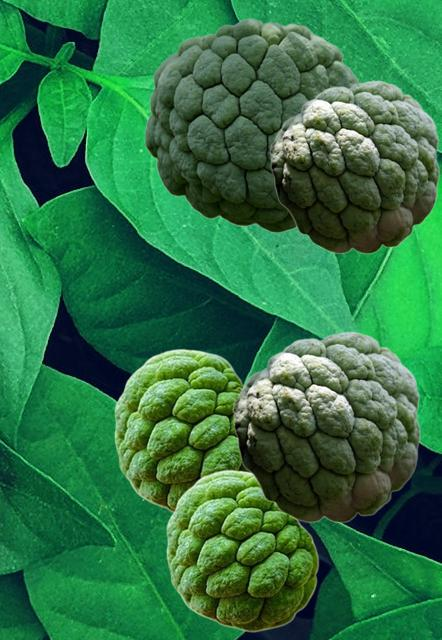atis: (144, 18, 359, 232), (232, 331, 420, 522), (269, 80, 439, 253), (166, 469, 318, 631), (114, 348, 246, 512)
